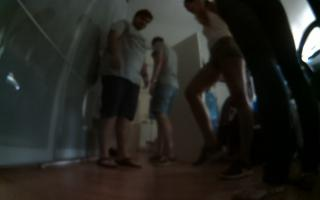person: (222, 1, 320, 200), (180, 1, 257, 180), (93, 9, 155, 172), (147, 31, 186, 168)
